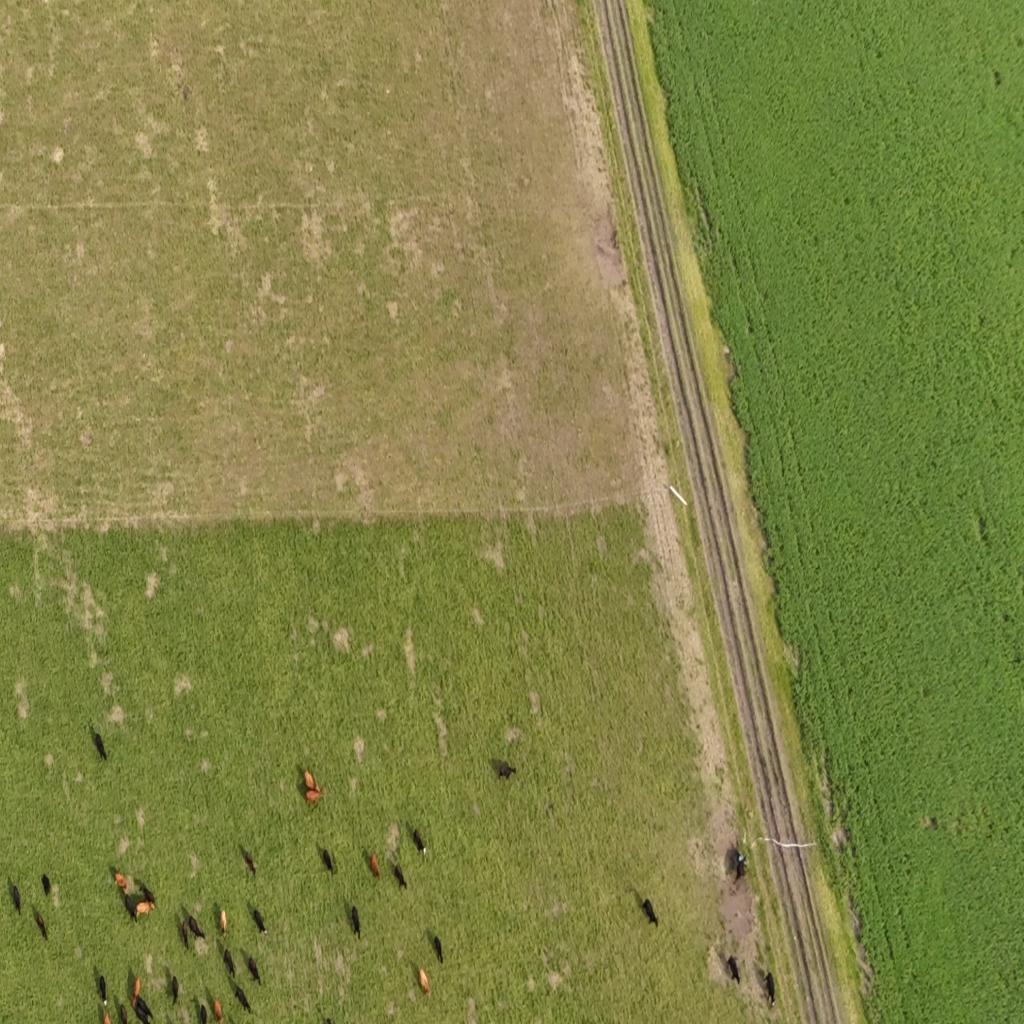cow: (635, 888, 661, 934), (728, 848, 746, 885), (134, 995, 154, 1023), (234, 983, 251, 1013), (92, 729, 108, 760), (137, 882, 156, 908), (188, 914, 206, 940), (252, 906, 267, 936), (412, 828, 427, 858), (496, 760, 516, 781), (134, 899, 154, 919), (764, 972, 775, 1008), (321, 847, 335, 875), (393, 862, 407, 890), (727, 955, 740, 985), (247, 954, 260, 984), (11, 880, 22, 914), (35, 910, 47, 941), (224, 948, 236, 979), (243, 850, 256, 878), (122, 892, 135, 920), (303, 769, 317, 793), (419, 968, 430, 998), (131, 976, 141, 1008), (432, 933, 443, 962), (305, 788, 323, 805), (351, 906, 360, 938), (370, 853, 380, 881), (213, 997, 223, 1024), (114, 872, 127, 892), (99, 974, 107, 1006), (171, 975, 179, 1005), (181, 919, 189, 949), (42, 874, 51, 897), (220, 908, 227, 936), (119, 1003, 128, 1024), (200, 1004, 208, 1024), (103, 1011, 111, 1024)
